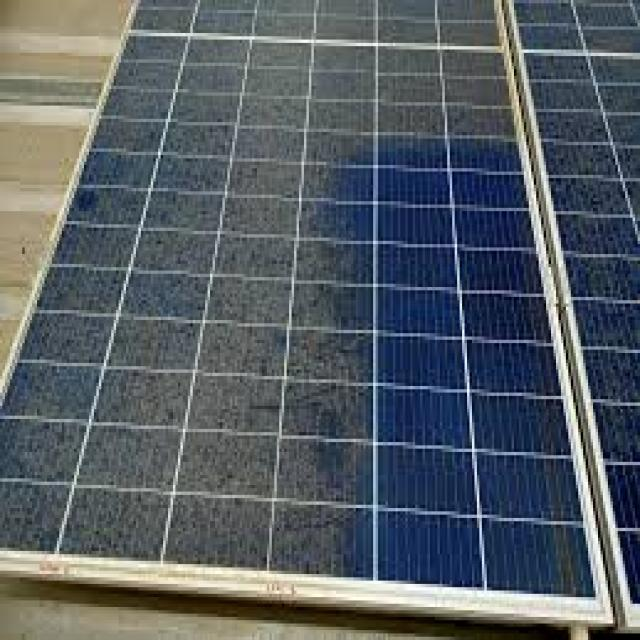dust-solar-panel: (0, 6, 528, 578)
